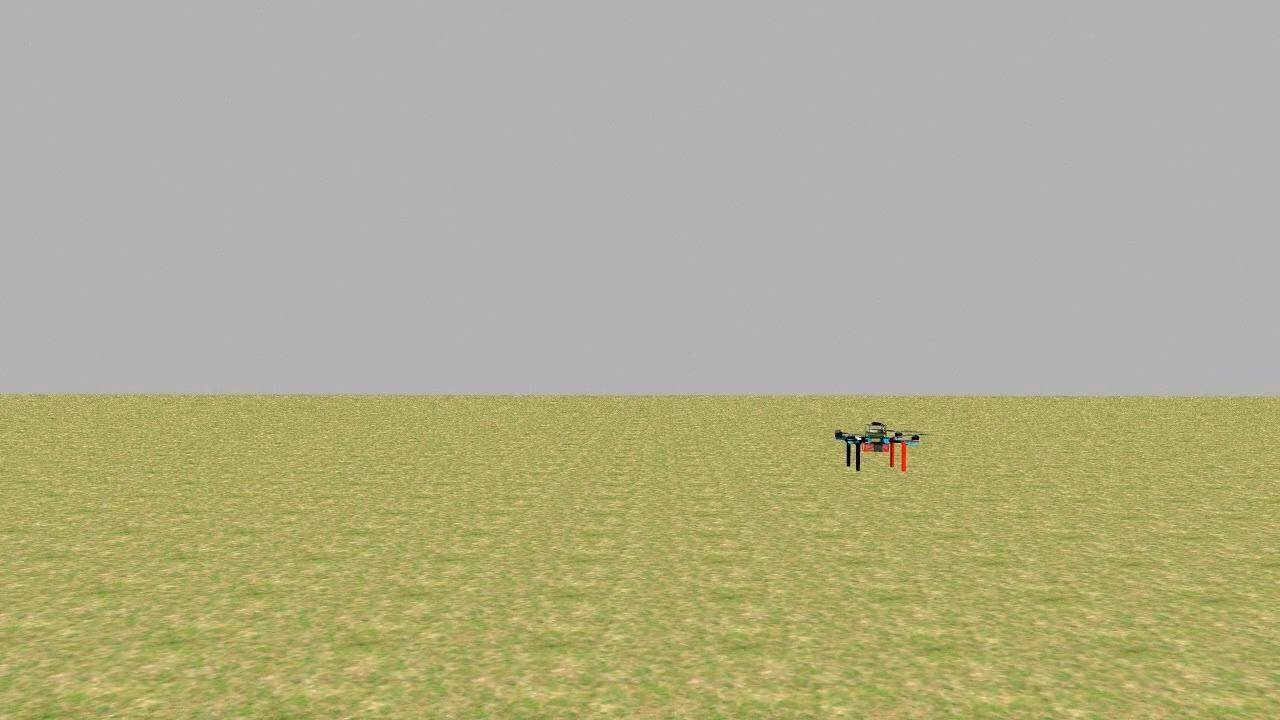UAV: (825, 404, 931, 474)
